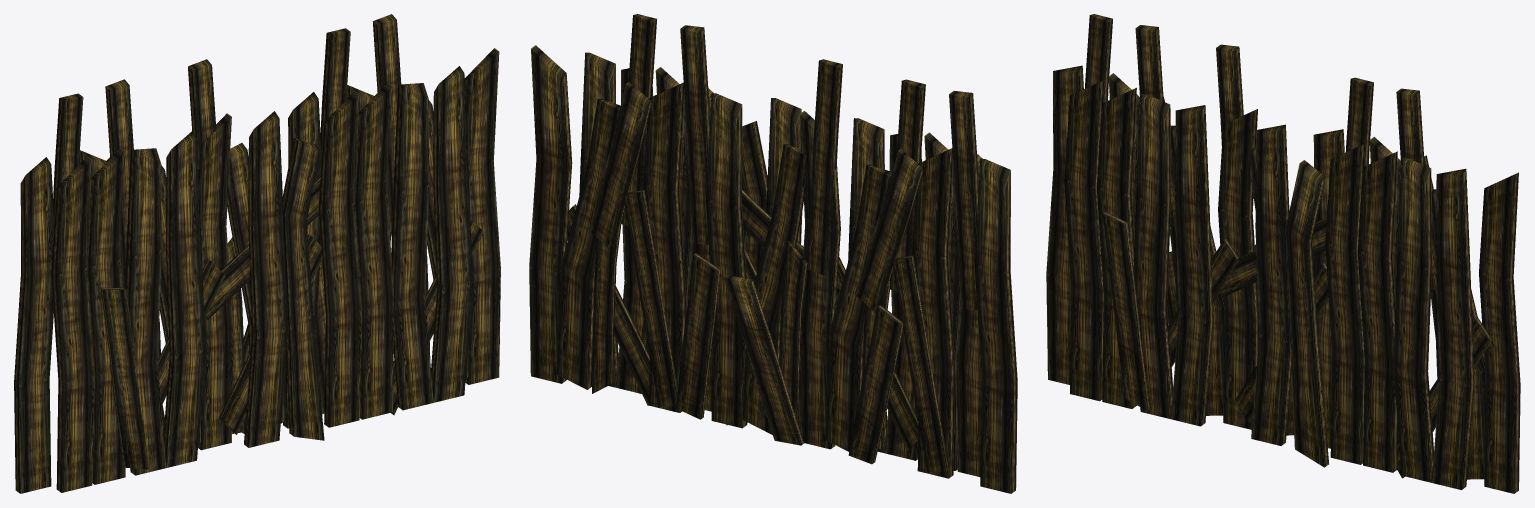
Rendered from CB_EXPLODING_WALL.fbx.
The picture shows the model from 3 angles, left to right: view 1: azimuth 30°, elevation 25°; view 2: azimuth 150°, elevation 25°; view 3: azimuth 330°, elevation 25°; orthographic projection. The views are drawn at different scales.
Visible parts, largest first — view 1: CB_EXPLODING_WALL; view 2: CB_EXPLODING_WALL; view 3: CB_EXPLODING_WALL.
Part boxes in pixels (left/top/right/bottom): CB_EXPLODING_WALL: left=14, top=14, right=500, bottom=493; CB_EXPLODING_WALL: left=529, top=14, right=1017, bottom=493; CB_EXPLODING_WALL: left=1046, top=14, right=1520, bottom=493.
Bounding box in the file's own units: 107363 × 84243 × 9130.
1 material, 1 textured.
